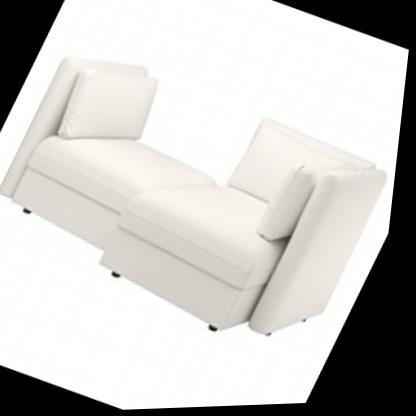Sofa: (0, 16, 414, 379)
